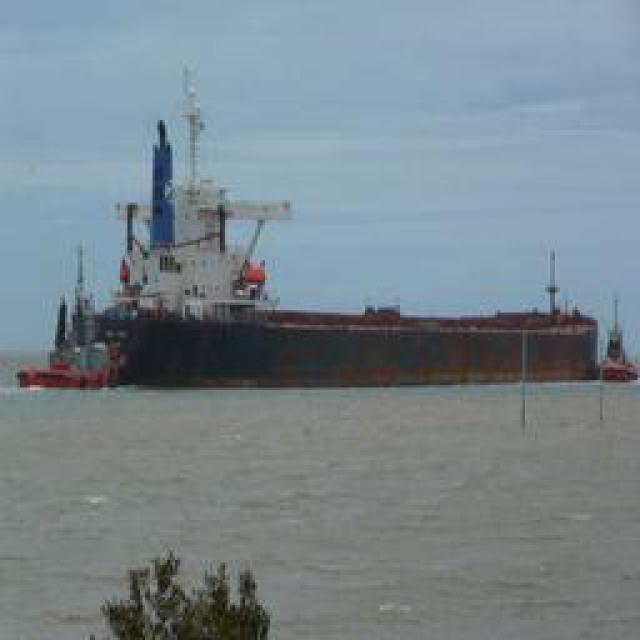Ship: (3, 112, 611, 391)
